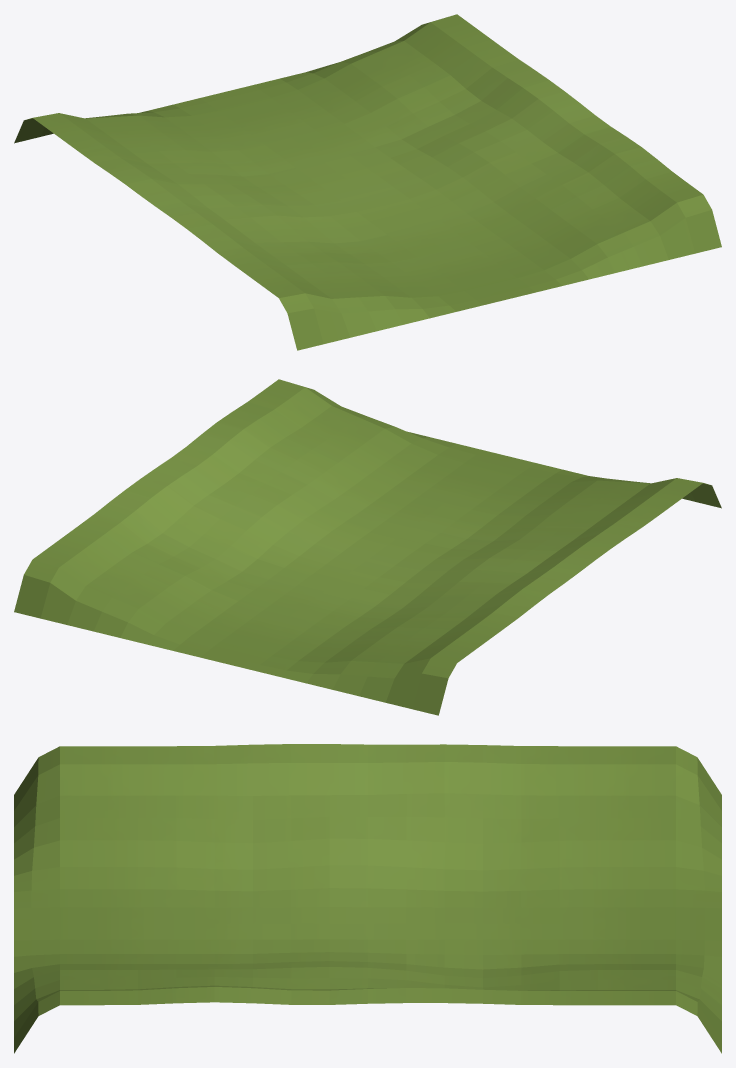
Rendered from floorField.fbx.
3 renders of one model, top to bottom at view 1: azimuth 30°, elevation 25°; view 2: azimuth 150°, elevation 25°; view 3: azimuth 270°, elevation 25°, orthographic. The views are drawn at different scales.
Parts seen in each view (by area): view 1: Floor_Field; view 2: Floor_Field; view 3: Floor_Field.
Part boxes in pixels (x1=…): Floor_Field: x1=14, y1=14, x2=721, y2=350; Floor_Field: x1=14, y1=379, x2=721, y2=715; Floor_Field: x1=14, y1=744, x2=721, y2=1053.
Size of the model in its own units: 6000 by 558 by 6931.
Materials: 1 (1 with a texture image).
